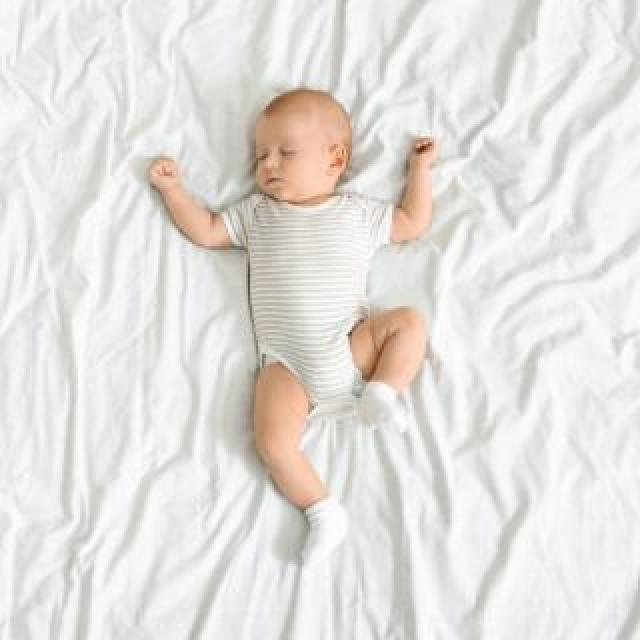baby: (152, 87, 444, 567)
